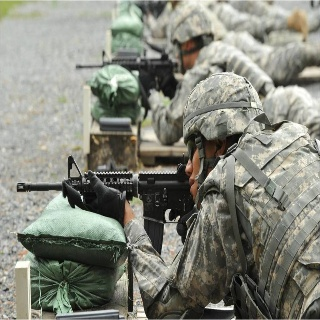rifle: (16, 153, 201, 314)
